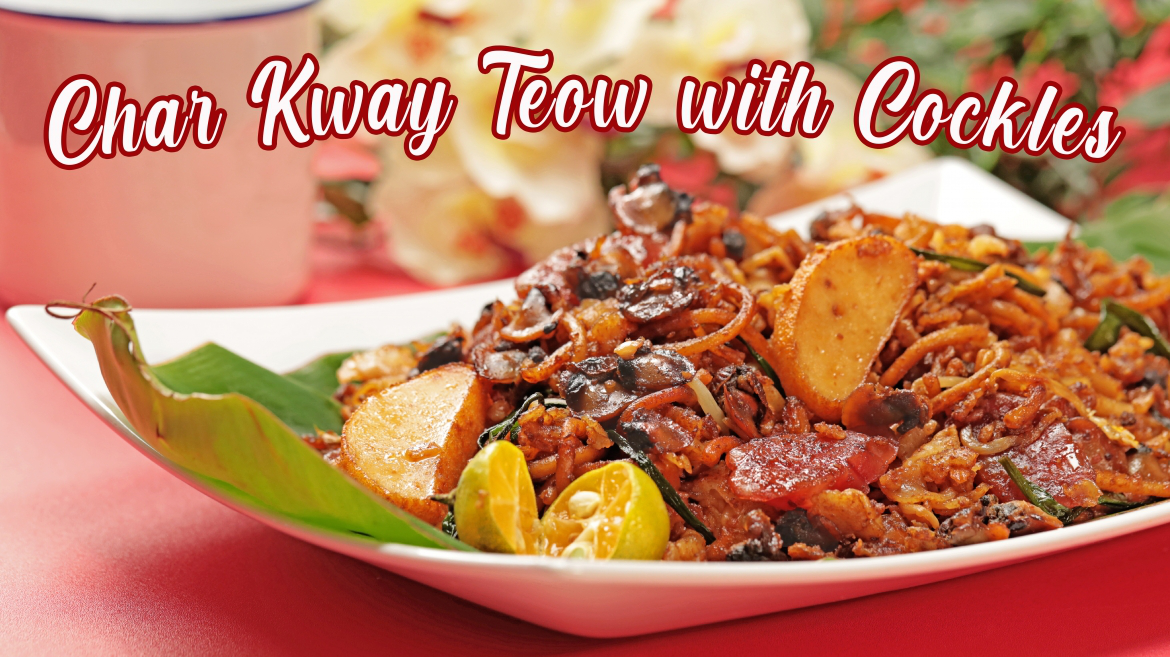Char Kway Teow: (318, 181, 1169, 545)
